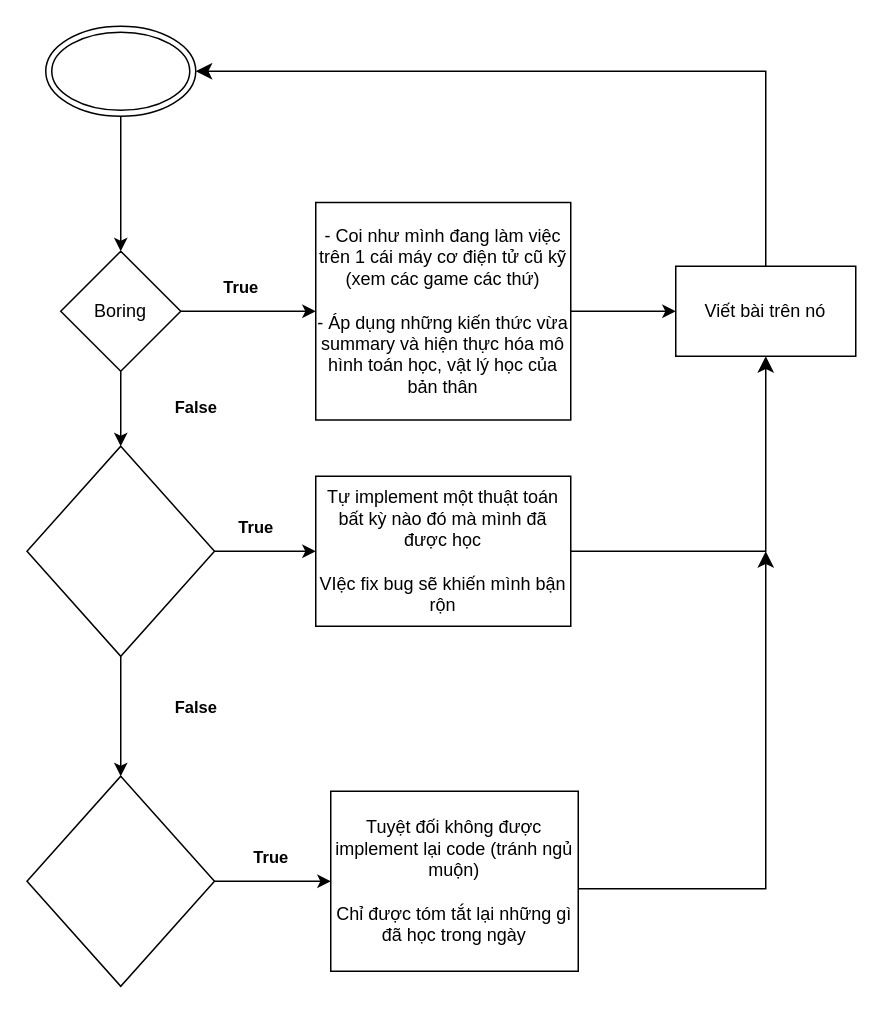
This 882x1013 diagram has some shape labels left out. The shapes that lost their labels are listed below. From the top down, each one's centre as x and y in pixels, then its label:
At (x=120, y=70): "Start".
At (x=120, y=550): "Thèm chơi game?".
At (x=120, y=880): "Tóm tắt kiến thức?".
